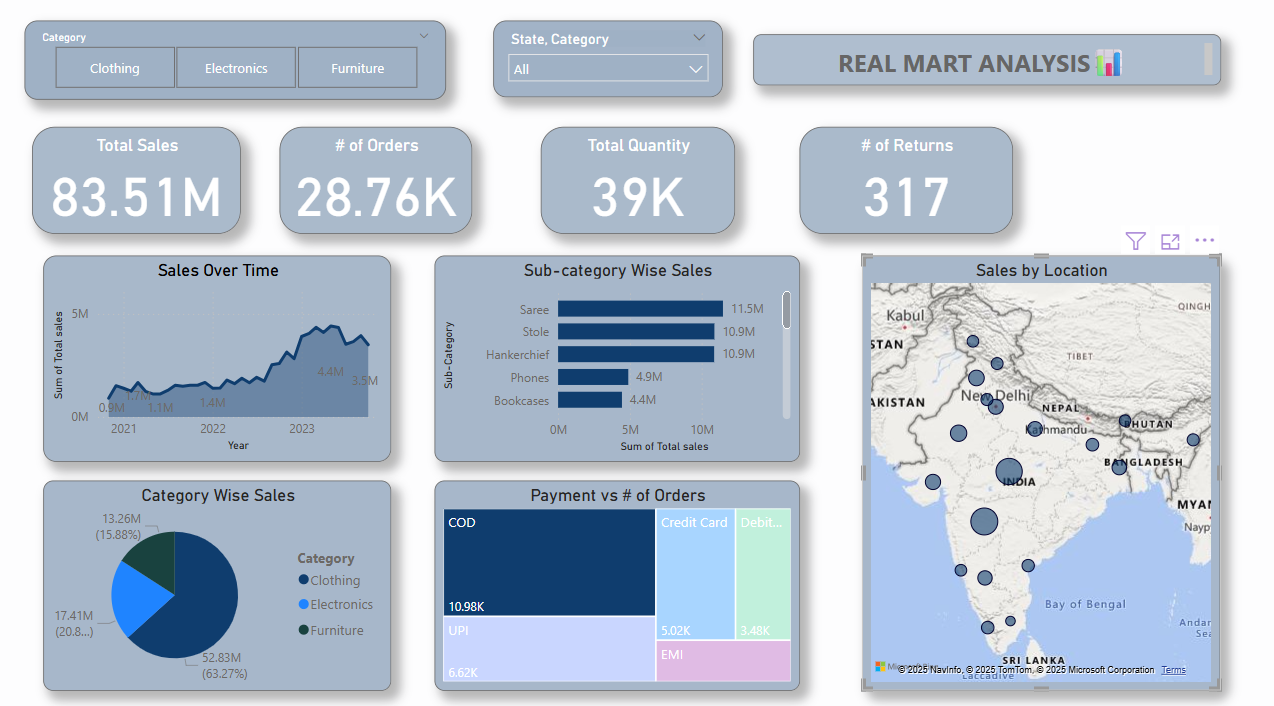

The dashboard page shown, as its layout file describes it:
{"tool":"powerbi","page":{"name":"Page 1","canvas":[1280,720],"ordinal":0},"visuals":[{"type":"card","title":"Total Sales","fields":{"Values":["Sum(Dataset.Total sales)"]},"box":[35.4,139.4,209,107.6],"z":0},{"type":"card","title":"# of Orders","fields":{"Values":["CountNonNull(Dataset.Order ID)"]},"box":[282.4,139.4,193.1,107.6],"z":1000},{"type":"card","title":"Total Quantity","fields":{"Values":["Sum(Dataset.Net quantity)"]},"box":[544,139.4,194.4,107.6],"z":2000},{"type":"card","title":"# of Returns","fields":{"Values":["Sum(Dataset.Returns)"]},"box":[803.1,139.4,213.9,107.6],"z":3000},{"type":"stackedAreaChart","title":"Sales Over Time","fields":{"Category":["Dataset.Date.Variation.Date Hierarchy.Year","Dataset.Date.Variation.Date Hierarchy.Quarter","Dataset.Date.Variation.Date Hierarchy.Month","Dataset.Date.Variation.Date Hierarchy.Day"],"Y":["Sum(Dataset.Total sales)"]},"box":[46.5,267.7,348.4,206.6],"z":4000},{"type":"pieChart","title":"Category Wise Sales","fields":{"Category":["Dataset.Category"],"Y":["Sum(Dataset.Total sales)"]},"box":[46.5,492.6,348.4,210.3],"z":5000},{"type":"barChart","title":"Sub-category Wise Sales","fields":{"Category":["Dataset.Sub-Category","Dataset.Category"],"Y":["Sum(Dataset.Total sales)"]},"box":[437.6,267.7,365.5,206.6],"z":6000},{"type":"treemap","title":"Payment vs # of Orders","fields":{"Values":["CountNonNull(Dataset.Order)"],"Group":["Dataset.PaymentMode"]},"box":[437.6,492.6,365.5,210.3],"z":7000},{"type":"map","title":"Sales by Location","fields":{"Category":["Dataset.State"],"Size":["Sum(Dataset.Total sales)"]},"box":[865.5,267.7,358.2,435.2],"z":8000},{"type":"slicer","fields":{"Values":["Dataset.Category"]},"box":[26.9,33,421.7,79.5],"z":9000},{"type":"slicer","fields":{"Values":["Dataset.State","Dataset.Category"]},"box":[496.3,33,229.8,77],"z":10000},{"type":"textbox","box":[755.7,46.5,468.3,51.4],"z":11000}]}

Visuals, with their boxes in screenshot pixels (x1, y1, x2, y2), scaled from the page's 1280x720 canvas onto the 1274x706 screenshot:
"Total Sales" card: select_region(35, 137, 243, 242)
"# of Orders" card: select_region(281, 137, 473, 242)
"Total Quantity" card: select_region(541, 137, 735, 242)
"# of Returns" card: select_region(799, 137, 1012, 242)
"Sales Over Time" stackedAreaChart: select_region(46, 262, 393, 465)
"Category Wise Sales" pieChart: select_region(46, 483, 393, 689)
"Sub-category Wise Sales" barChart: select_region(436, 262, 799, 465)
"Payment vs # of Orders" treemap: select_region(436, 483, 799, 689)
"Sales by Location" map: select_region(861, 262, 1218, 689)
slicer - Dataset.Category: select_region(27, 32, 446, 110)
slicer - Dataset.State x Dataset.Category: select_region(494, 32, 723, 108)
textbox: select_region(752, 46, 1218, 96)
